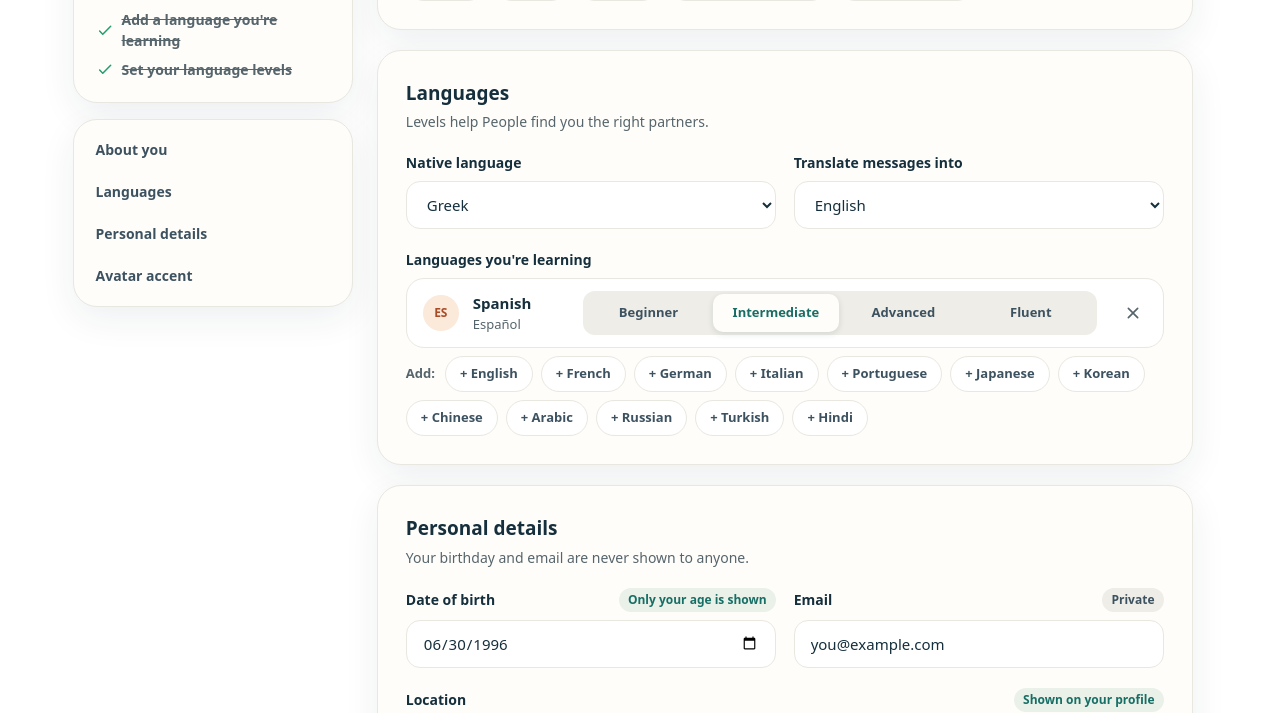
Test: EditProfilePage › removing a language drops its level and Discard restores everything
The image size is (1280, 713).
(page scrolled)
Click the button named "Remove Spanish" at (1132, 313), box [1110, 291, 1154, 335]
(page scrolled)
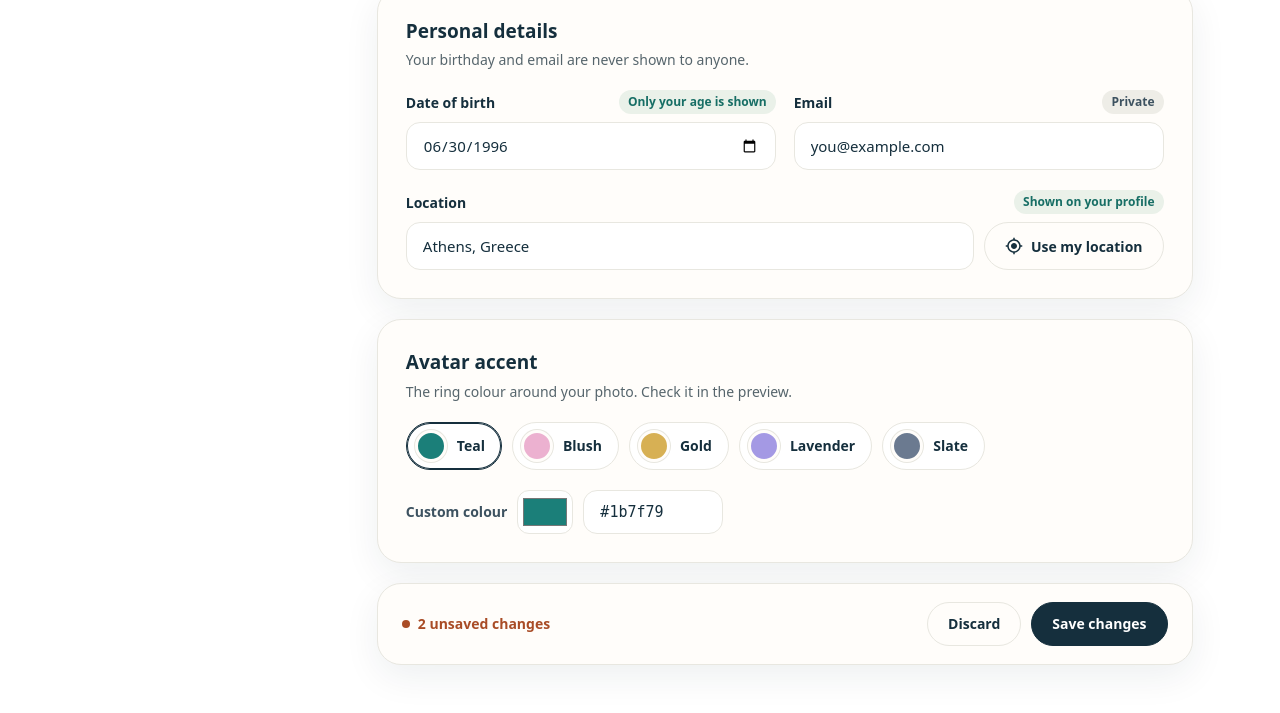
Expected: the element "Spanish level" is not shown
Click the button "Discard" at (974, 624), box [927, 602, 1021, 646]
(page scrolled)
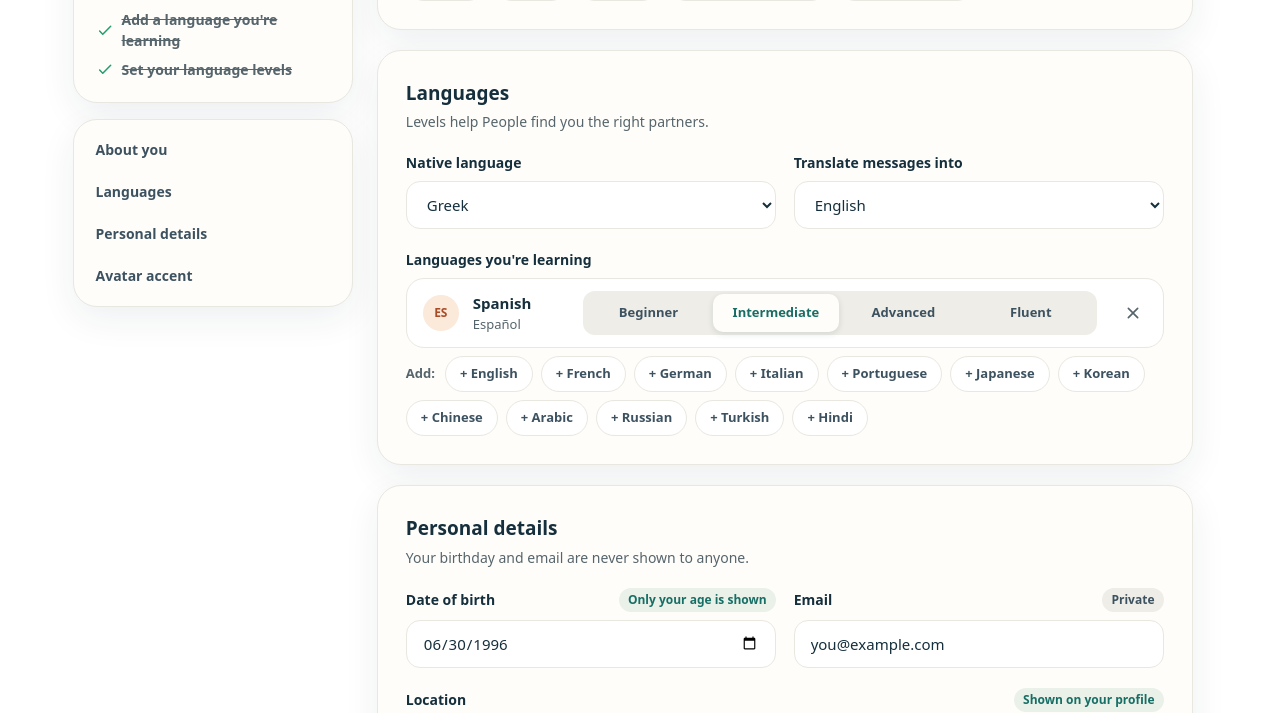
Expected: the element named "Spanish level" is shown, [583, 291, 1096, 335]
